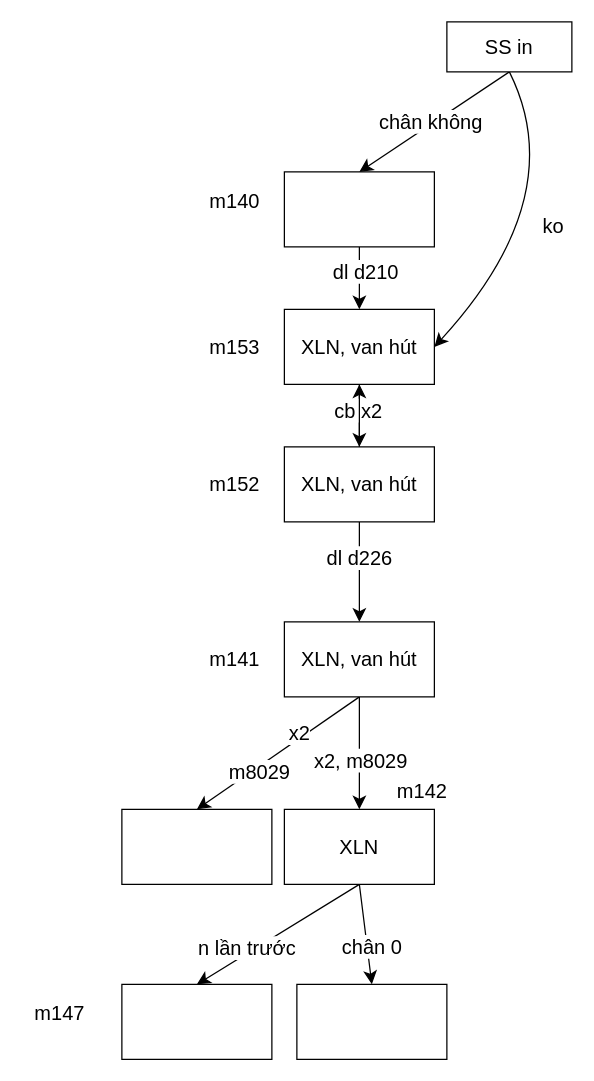
The diagram is 594 pixels wide and 1081 high, and some of its shapes have lost their labels. Each missing label, with the centre of its shape:
"counter" belongs at [196,846].
"van hút" belongs at [358,209].
